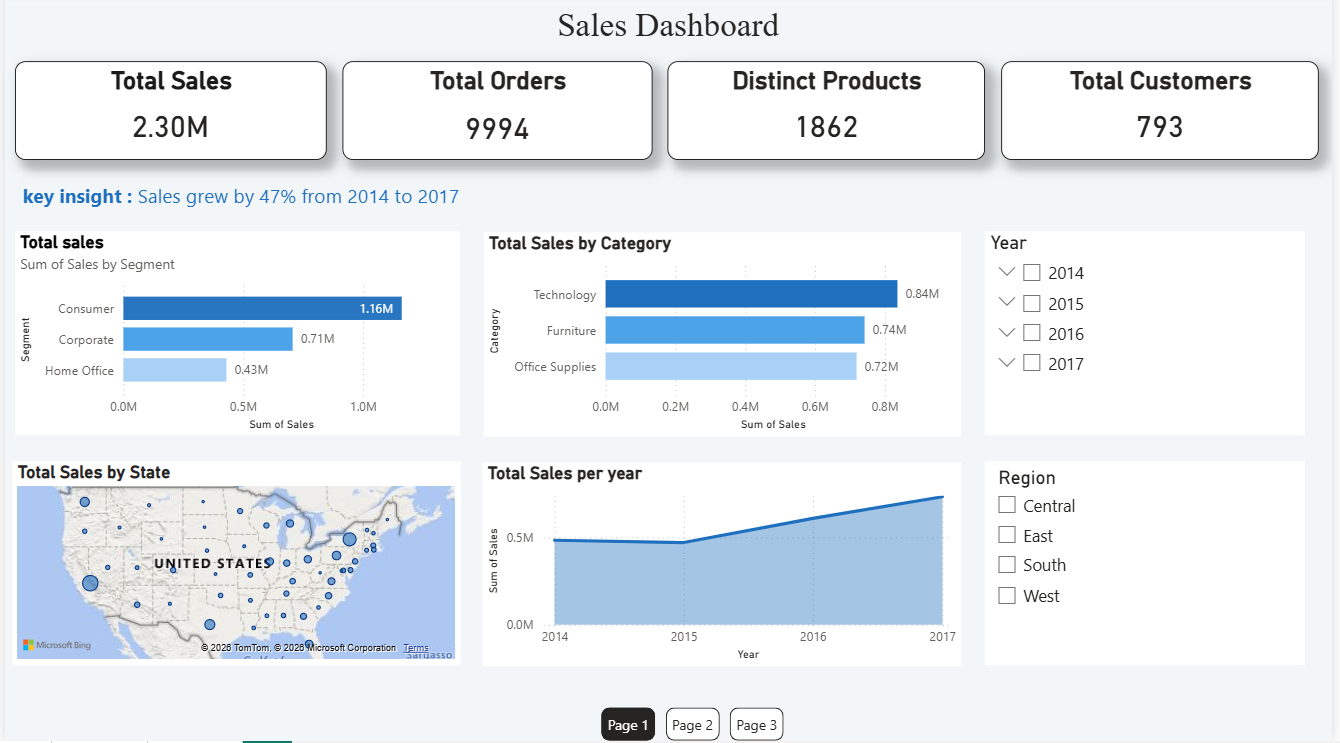

The dashboard page shown, as its layout file describes it:
{"tool":"powerbi","page":{"name":"Page 1","canvas":[1280,720],"ordinal":0},"visuals":[{"type":"card","title":"Total Sales","fields":{"Values":["Sum(Untitled spreadsheet - Sample -.Sales)"]},"box":[9.7,63.9,300.4,95.3],"z":0},{"type":"card","title":"Total Orders","fields":{"Values":["CountNonNull(Untitled spreadsheet - Sample -.Order_ID)"]},"box":[325.7,63.9,299.2,95.3],"z":1000},{"type":"areaChart","title":"Total Sales per year","fields":{"Category":["Untitled spreadsheet - Sample -.Order_Date.Variation.Date Hierarchy.Year"],"Y":["Sum(Untitled spreadsheet - Sample -.Sales)"]},"box":[460.9,451.2,462.1,196.6],"z":2000},{"type":"barChart","title":"Total sales","fields":{"Y":["Sum(Untitled spreadsheet - Sample -.Sales)"],"Category":["Untitled spreadsheet - Sample -.Segment"]},"box":[9.7,228,429.5,196.6],"z":3000},{"type":"slicer","title":"Year","fields":{"Values":["Untitled spreadsheet - Sample -.Order_Date.Variation.Date Hierarchy.Year","Untitled spreadsheet - Sample -.Segment"]},"box":[945.8,228,308.8,196.6],"z":4000},{"type":"map","title":"Total Sales by State","fields":{"Size":["Sum(Untitled spreadsheet - Sample -.Sales)"],"Category":["Untitled spreadsheet - Sample -.State"]},"box":[7.2,450,431.9,196.6],"z":5000},{"type":"textbox","box":[0,4.8,1280,59.1],"z":6000},{"type":"slicer","fields":{"Values":["Untitled spreadsheet - Sample -.Region"]},"box":[945.8,450,308.8,196.6],"z":7000},{"type":"barChart","title":"Total Sales by Category","fields":{"Category":["Untitled spreadsheet - Sample -.Category"],"Y":["Sum(Untitled spreadsheet - Sample -.Sales)"]},"box":[462.1,229.2,460.9,196.6],"z":8000},{"type":"card","title":"Total Customers","fields":{"Values":["Count(Untitled spreadsheet - Sample -.Customer_ID)"]},"box":[961.5,63.9,306.4,95.3],"z":9000},{"type":"card","title":"Distinct Products","fields":{"Values":["Count(Untitled spreadsheet - Sample -.Product_ID)"]},"box":[639.4,63.9,306.4,95.3],"z":10000},{"type":"pageNavigator","box":[576,688,176,32],"z":11000},{"type":"textbox","box":[12.1,176.1,567,51.9],"z":11001}]}

Visuals, with their boxes in screenshot pixels (x1, y1, x2, y2), scaled from the page's 1280x720 canvas onto the 1340x743 screenshot:
"Total Sales" card: {"x1": 10, "y1": 66, "x2": 325, "y2": 164}
"Total Orders" card: {"x1": 341, "y1": 66, "x2": 654, "y2": 164}
"Total Sales per year" areaChart: {"x1": 483, "y1": 466, "x2": 966, "y2": 668}
"Total sales" barChart: {"x1": 10, "y1": 235, "x2": 460, "y2": 438}
"Year" slicer: {"x1": 990, "y1": 235, "x2": 1313, "y2": 438}
"Total Sales by State" map: {"x1": 8, "y1": 464, "x2": 460, "y2": 667}
textbox: {"x1": 0, "y1": 5, "x2": 1339, "y2": 66}
slicer - Untitled spreadsheet - Sample -.Region: {"x1": 990, "y1": 464, "x2": 1313, "y2": 667}
"Total Sales by Category" barChart: {"x1": 484, "y1": 237, "x2": 966, "y2": 439}
"Total Customers" card: {"x1": 1007, "y1": 66, "x2": 1327, "y2": 164}
"Distinct Products" card: {"x1": 669, "y1": 66, "x2": 990, "y2": 164}
pageNavigator: {"x1": 603, "y1": 710, "x2": 787, "y2": 742}
textbox: {"x1": 13, "y1": 182, "x2": 606, "y2": 235}
